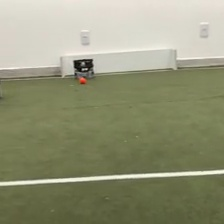ball: (78, 74, 87, 84)
goal: (57, 47, 179, 80)
robot: (71, 57, 96, 81)
